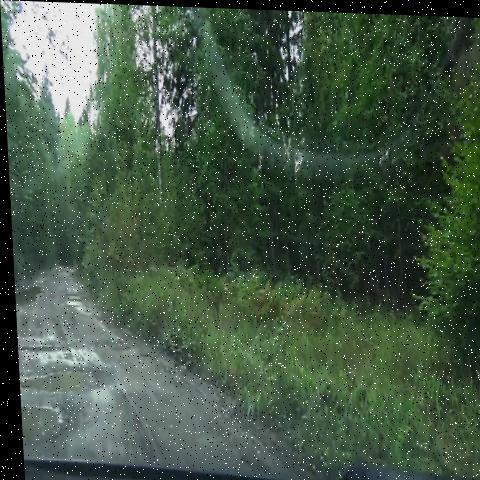pothole: (14, 345, 107, 406)
